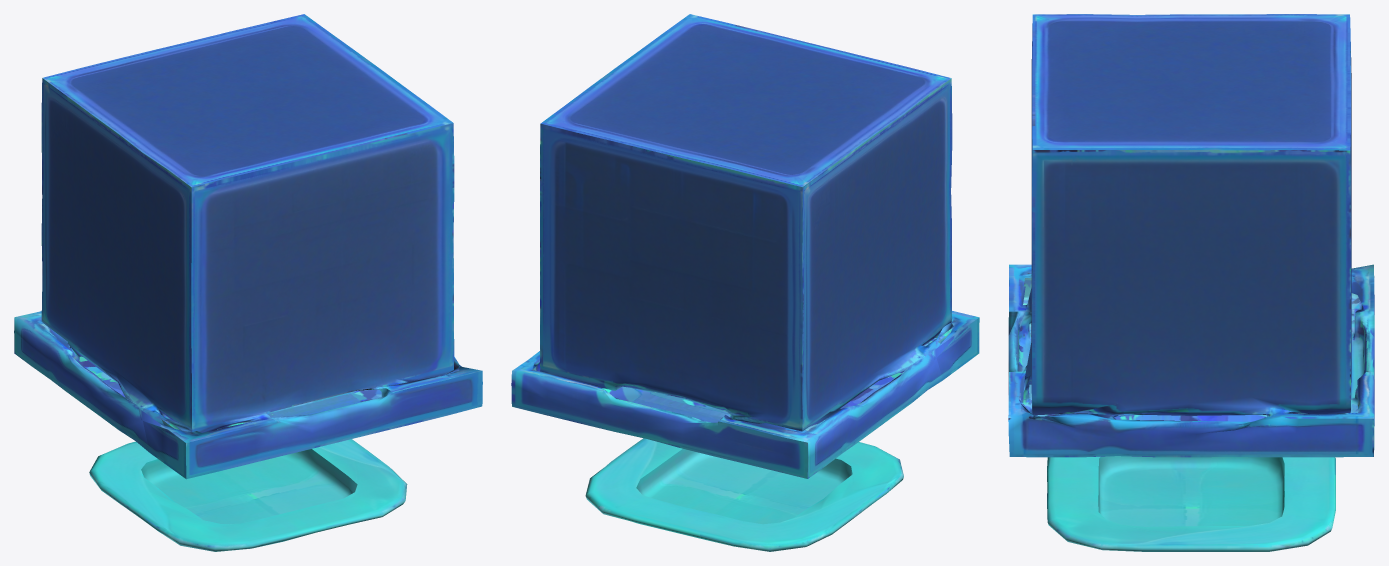
Rendered from A_large_rectangular__0926194119_texture.fbx.
3 views of the same model, side by side, from view 1: azimuth 30°, elevation 25°; view 2: azimuth 150°, elevation 25°; view 3: azimuth 270°, elevation 25° (orthographic). The views are drawn at different scales.
Parts seen in each view (by area): view 1: Mesh0; view 2: Mesh0; view 3: Mesh0.
Boxes of the visible parts, <box> form: Mesh0: <box>14,14,482,551</box>; Mesh0: <box>511,14,979,551</box>; Mesh0: <box>1008,14,1374,551</box>.
Size of the model in its own units: 118 by 151 by 118.
1 material, 1 textured.
